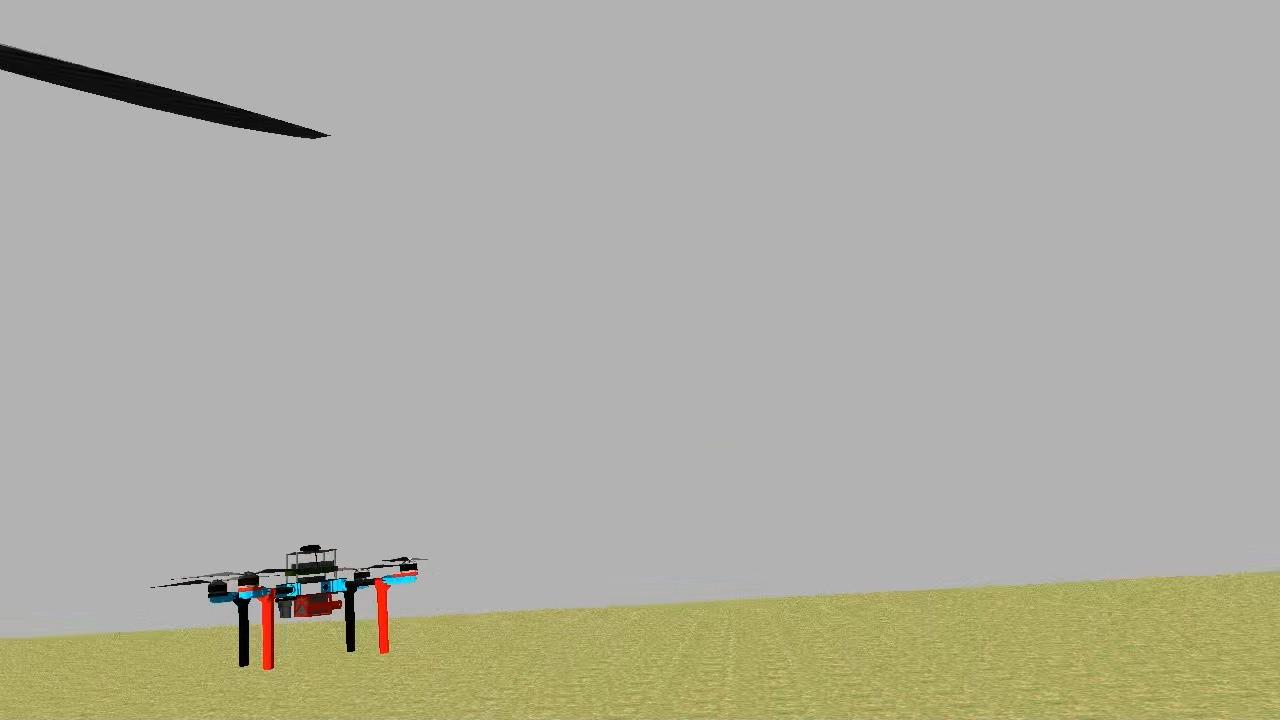UAV: (204, 538, 426, 668)
